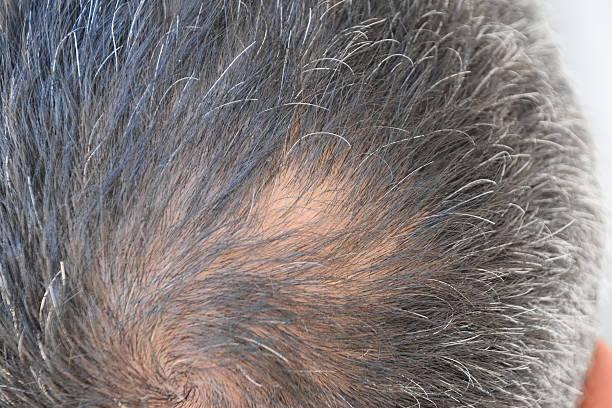grey hair: (205, 29, 267, 105), (138, 36, 191, 121), (225, 324, 307, 371), (74, 112, 114, 189), (426, 350, 487, 395), (281, 122, 361, 155), (430, 173, 504, 207), (55, 23, 96, 80), (37, 252, 92, 294), (482, 297, 528, 338), (383, 295, 438, 326), (298, 55, 361, 77), (414, 74, 475, 95), (380, 48, 424, 71)
low hair density: (175, 184, 408, 282), (244, 312, 381, 395), (82, 314, 217, 396), (273, 96, 393, 170), (97, 209, 156, 298)
